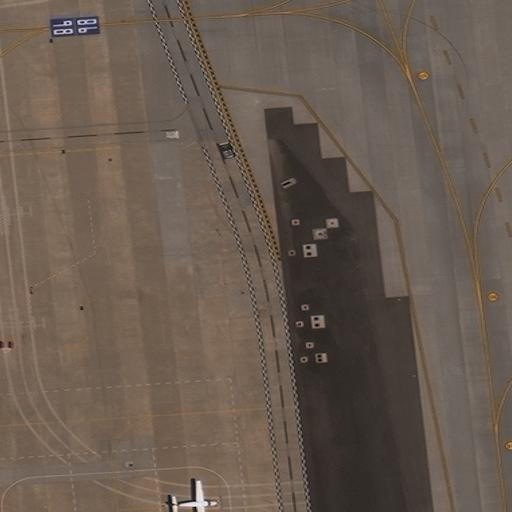Medium Civil Transport: (169, 480, 217, 511)
